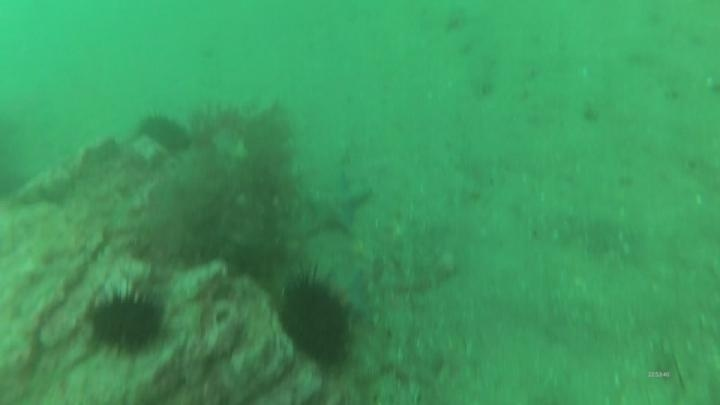echinus: (275, 271, 355, 371), (83, 282, 169, 360), (136, 110, 192, 154)
starfish: (302, 170, 374, 238), (327, 266, 374, 323)
